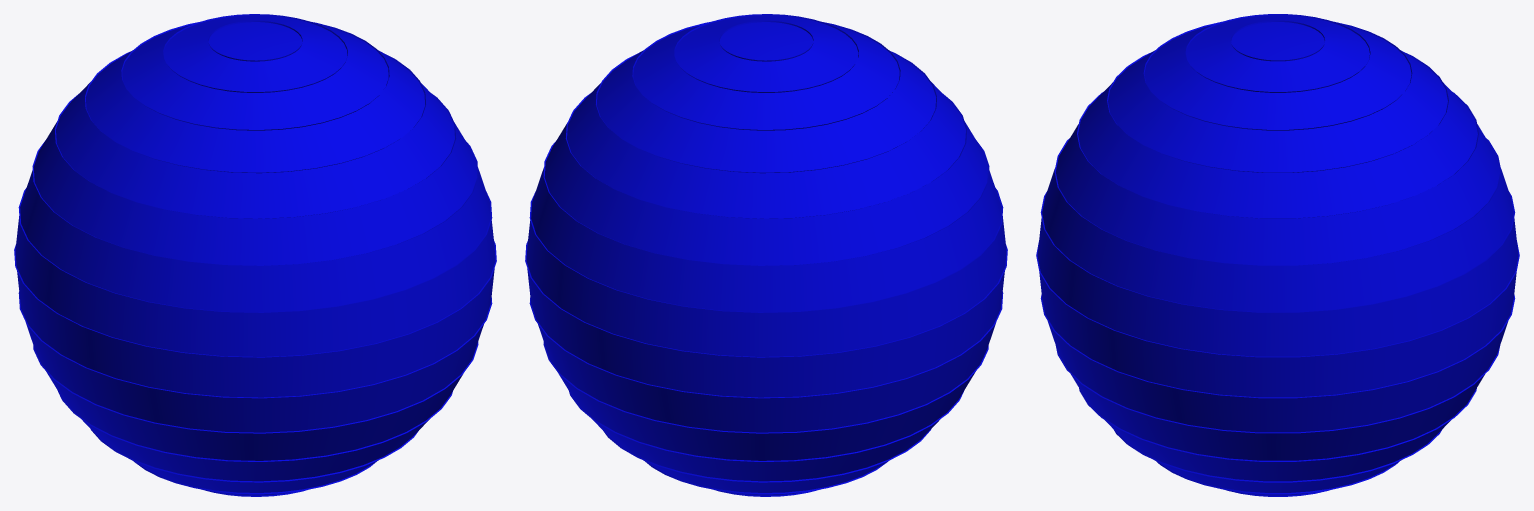
Rendered from ExcerciseBall.fbx.
3 views of the same model, side by side, from view 1: azimuth 30°, elevation 25°; view 2: azimuth 150°, elevation 25°; view 3: azimuth 270°, elevation 25° (orthographic).
Visible parts, largest first — view 1: Sphere.001; view 2: Sphere.001; view 3: Sphere.001.
Boxes of the visible parts, left/top/right/bottom form: Sphere.001: left=14, top=14, right=496, bottom=496; Sphere.001: left=525, top=14, right=1007, bottom=496; Sphere.001: left=1036, top=14, right=1519, bottom=496.
Bounding box in the file's own units: 160 × 160 × 161.
